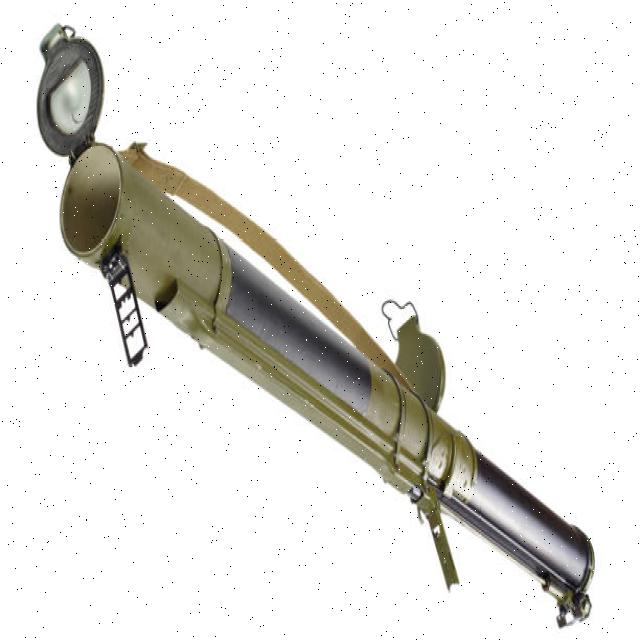bazooka: (32, 12, 601, 640)
